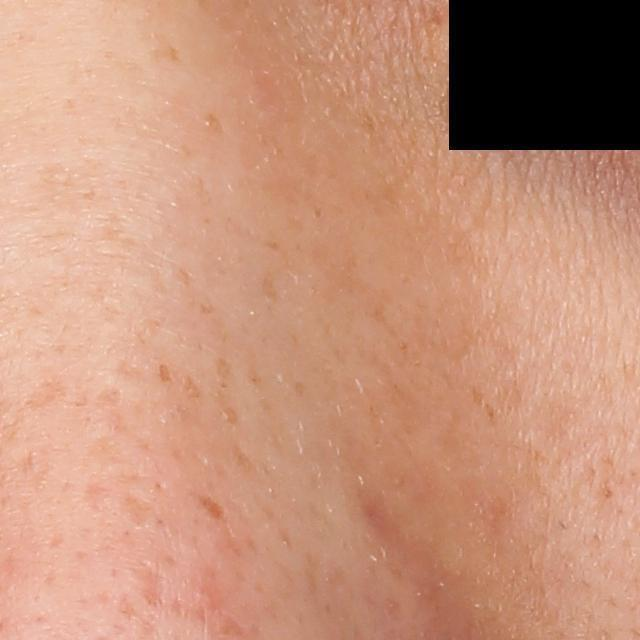atrophic_scar: (128, 561, 171, 608), (115, 489, 157, 528)
melasma: (179, 370, 207, 402), (259, 270, 284, 304), (153, 363, 174, 389), (215, 355, 235, 381)
